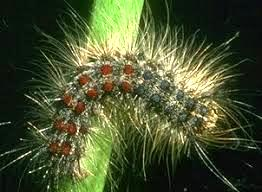Caterpillar: (40, 45, 231, 180)
